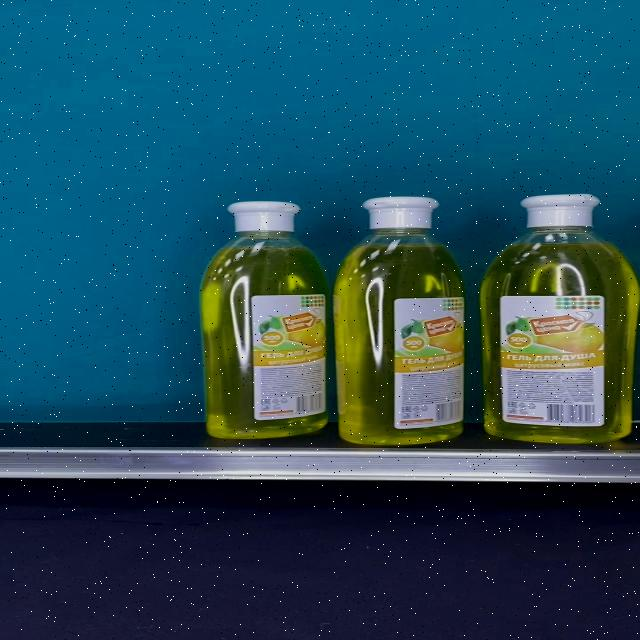Bottle: (478, 194, 640, 443), (332, 196, 465, 445), (200, 202, 326, 439)
Cap: (521, 194, 601, 228), (361, 197, 439, 229), (227, 202, 300, 232)
